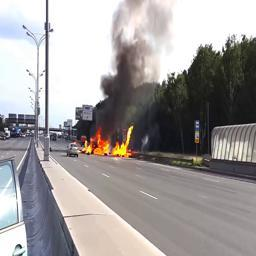fire: (80, 125, 135, 158)
